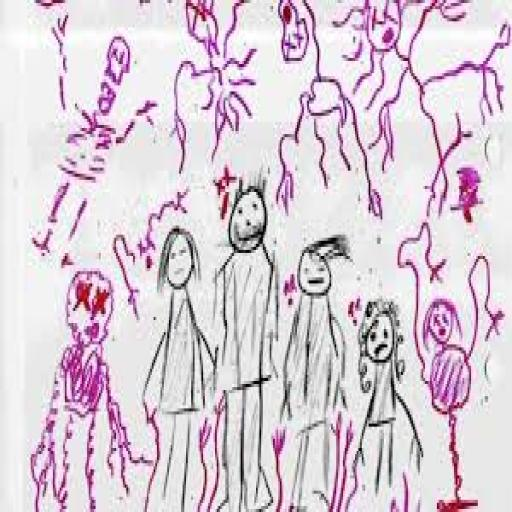person: (398, 219, 505, 506), (28, 268, 134, 509), (217, 178, 280, 509), (140, 224, 212, 507), (281, 231, 350, 509), (350, 288, 424, 504)
